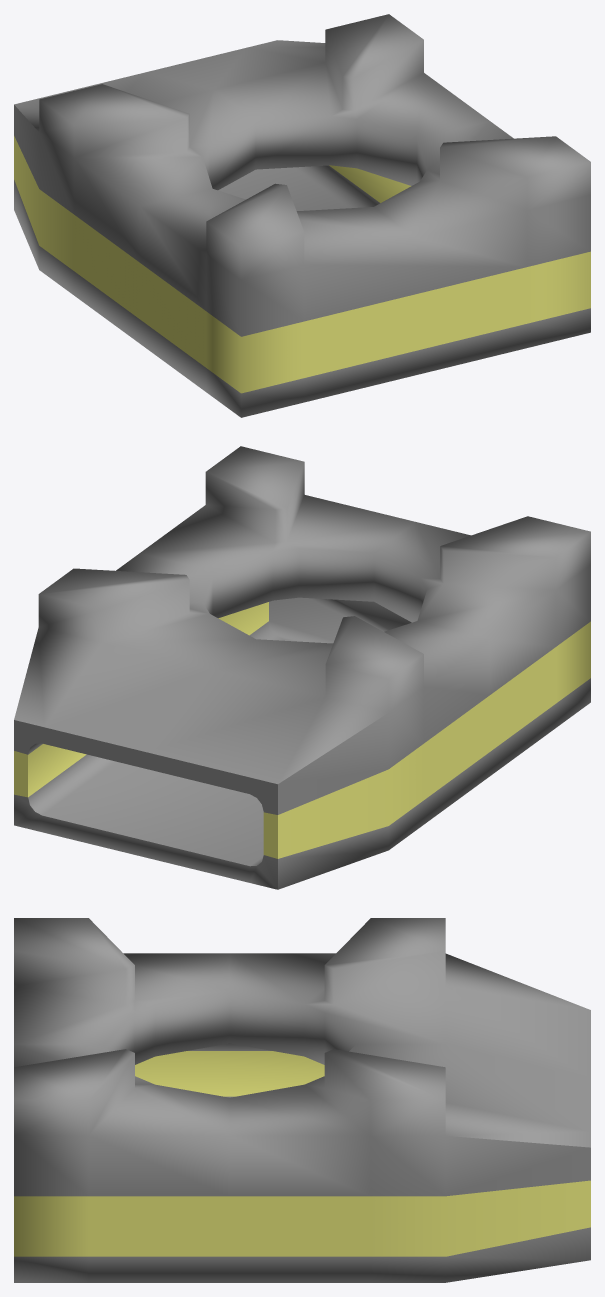
Rendered from PalletLauncher.fbx.
3 renders of one model, top to bottom at view 1: azimuth 30°, elevation 25°; view 2: azimuth 150°, elevation 25°; view 3: azimuth 270°, elevation 25°, orthographic. The views are drawn at different scales.
Visible parts, largest first — view 1: CarPalletLauncher; view 2: CarPalletLauncher; view 3: CarPalletLauncher.
Part boxes in pixels (x1,y1,x2,y2): CarPalletLauncher: [14, 14, 590, 417]; CarPalletLauncher: [14, 446, 590, 889]; CarPalletLauncher: [14, 918, 590, 1282].
Bounding box in the file's own units: 2.45 × 3.28 × 1.14.
